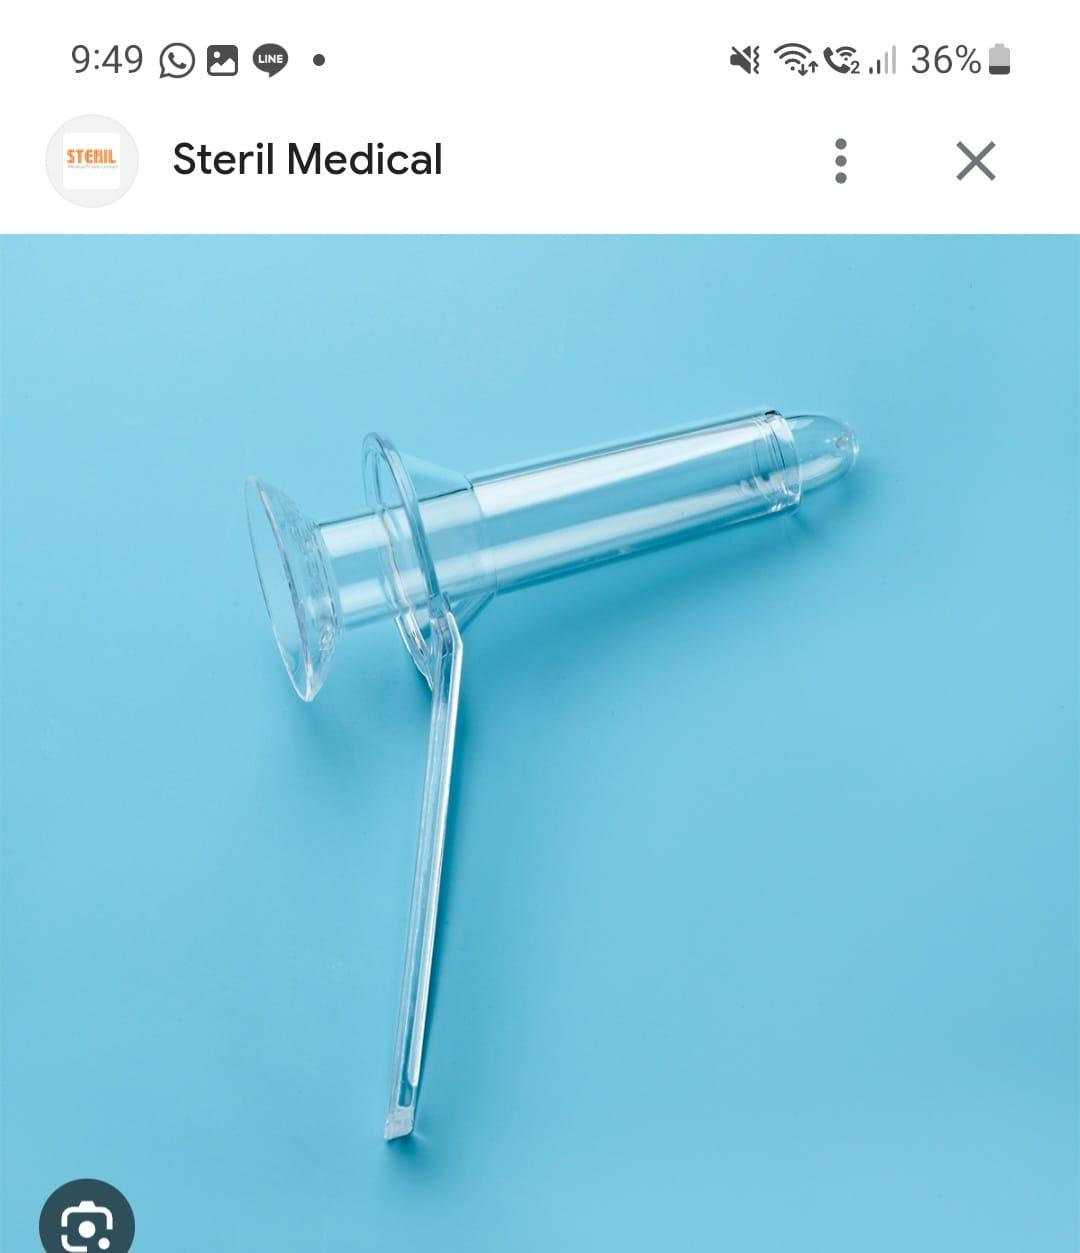Protoscope: (204, 364, 898, 1174)
